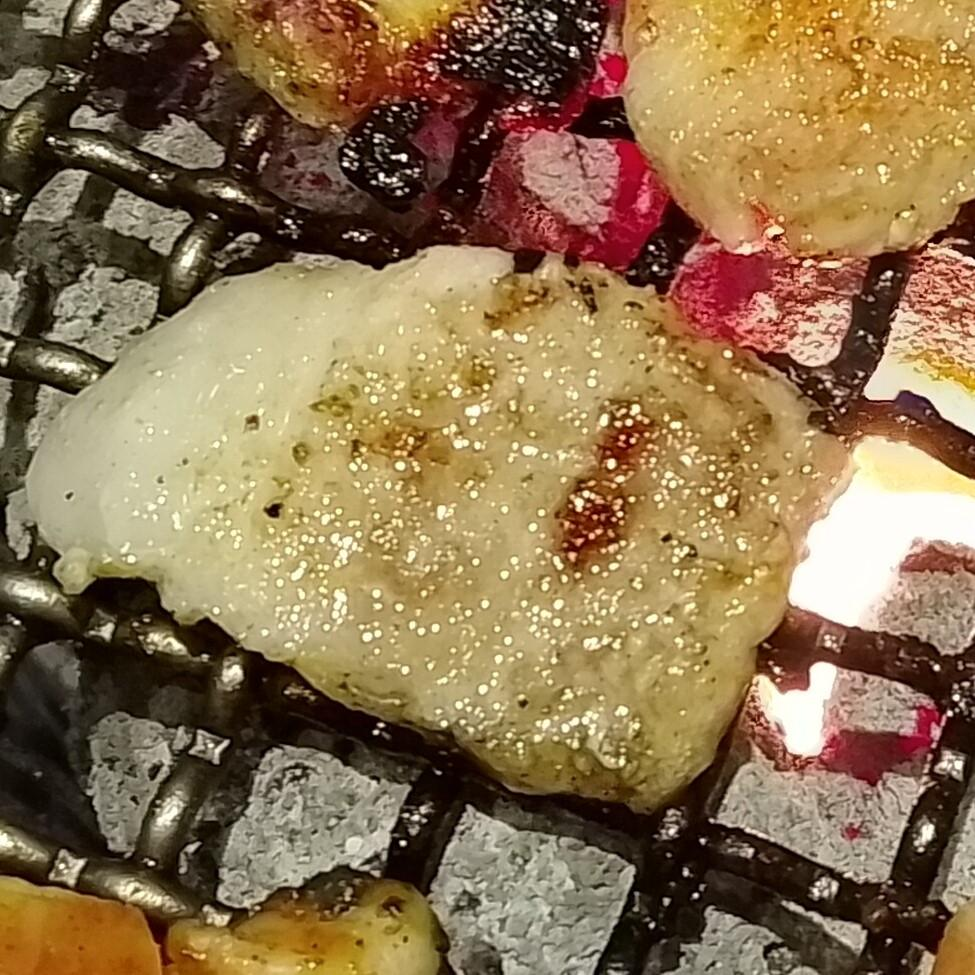Overcooked: (294, 0, 604, 213), (169, 0, 608, 132)
Well-Cooked: (25, 247, 854, 821), (618, 0, 974, 263)
